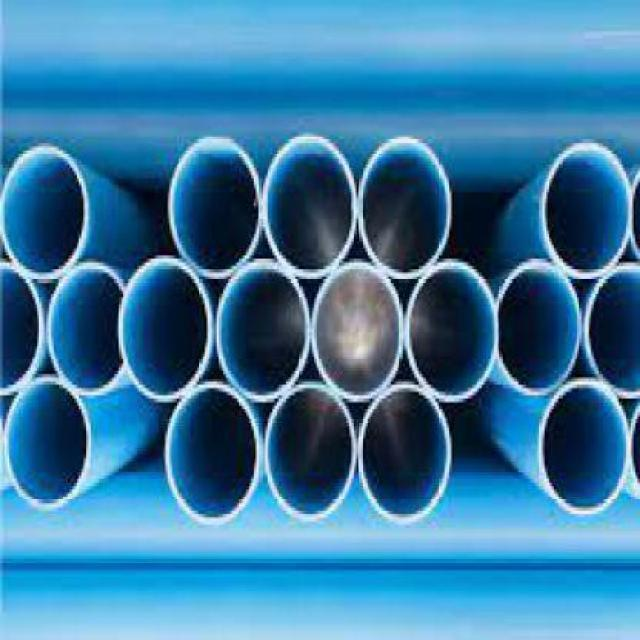pipe: (403, 260, 499, 402), (263, 135, 357, 280), (168, 137, 262, 279), (357, 137, 451, 279), (215, 260, 308, 402), (119, 257, 210, 402), (311, 262, 404, 402), (358, 383, 451, 522), (166, 382, 257, 524), (542, 140, 633, 279), (263, 383, 356, 519), (539, 377, 630, 515), (2, 145, 90, 281), (497, 257, 582, 396), (6, 377, 89, 510), (48, 260, 124, 394), (585, 262, 640, 397), (0, 260, 43, 394)
